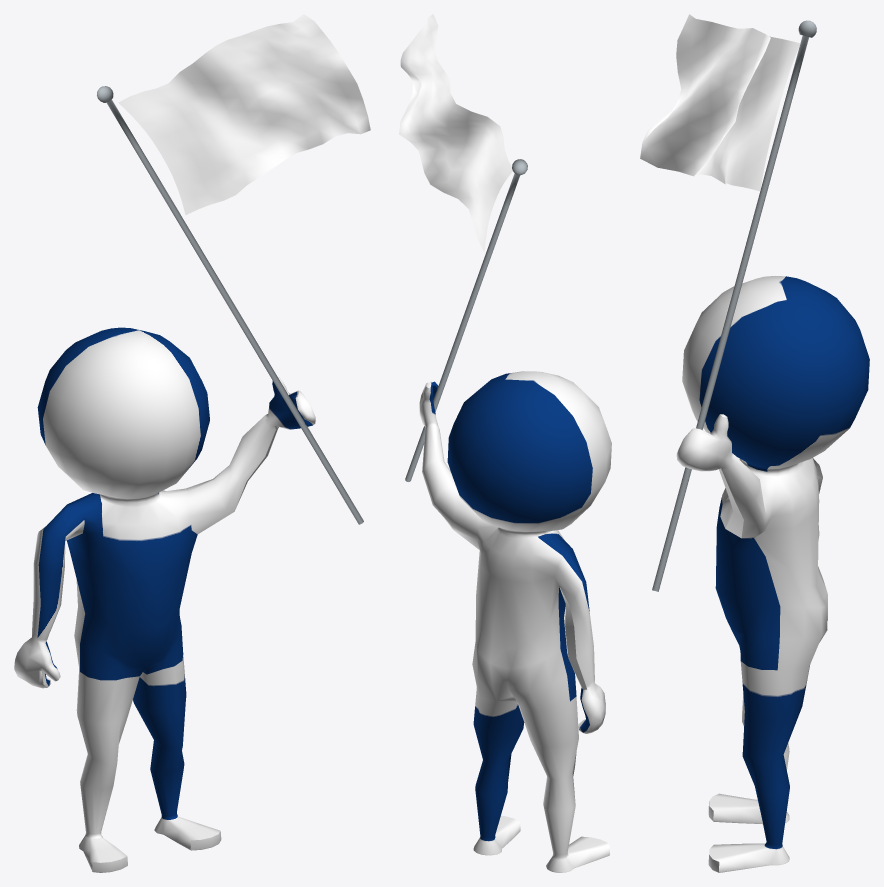
The model's file is finno_pioneer.obj.
3 renders of one model, left to right at view 1: azimuth 30°, elevation 25°; view 2: azimuth 150°, elevation 25°; view 3: azimuth 270°, elevation 25°, orthographic. The views are drawn at different scales.
Visible parts, largest first — view 1: Virtual_Man, bayrak_Plane09, bayrak_Sphere03; view 2: Virtual_Man, bayrak_Plane09, bayrak_Sphere03; view 3: Virtual_Man, bayrak_Plane09, bayrak_Sphere03.
Boxes of the visible parts, x1,y1,x2,y2 form: Virtual_Man: (14, 327, 315, 872); bayrak_Plane09: (118, 14, 370, 214); bayrak_Sphere03: (97, 86, 363, 524); Virtual_Man: (419, 371, 611, 872); bayrak_Plane09: (399, 14, 512, 251); bayrak_Sphere03: (405, 159, 527, 481); Virtual_Man: (676, 276, 869, 872); bayrak_Plane09: (640, 14, 800, 191); bayrak_Sphere03: (652, 20, 816, 591).
Size of the model in its own units: 1.2 by 3.39 by 0.7866.
